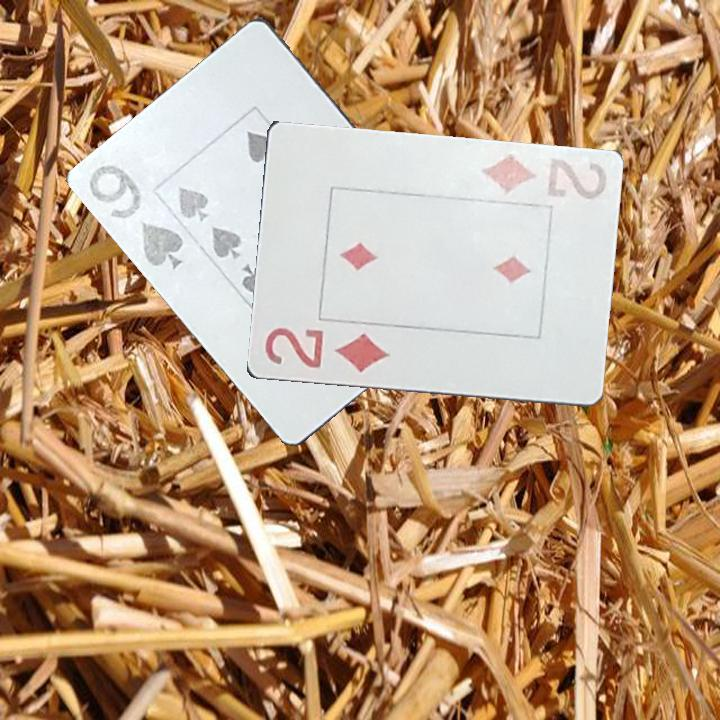2d: (476, 149, 610, 203), (260, 324, 392, 376)
9s: (86, 161, 192, 272)
